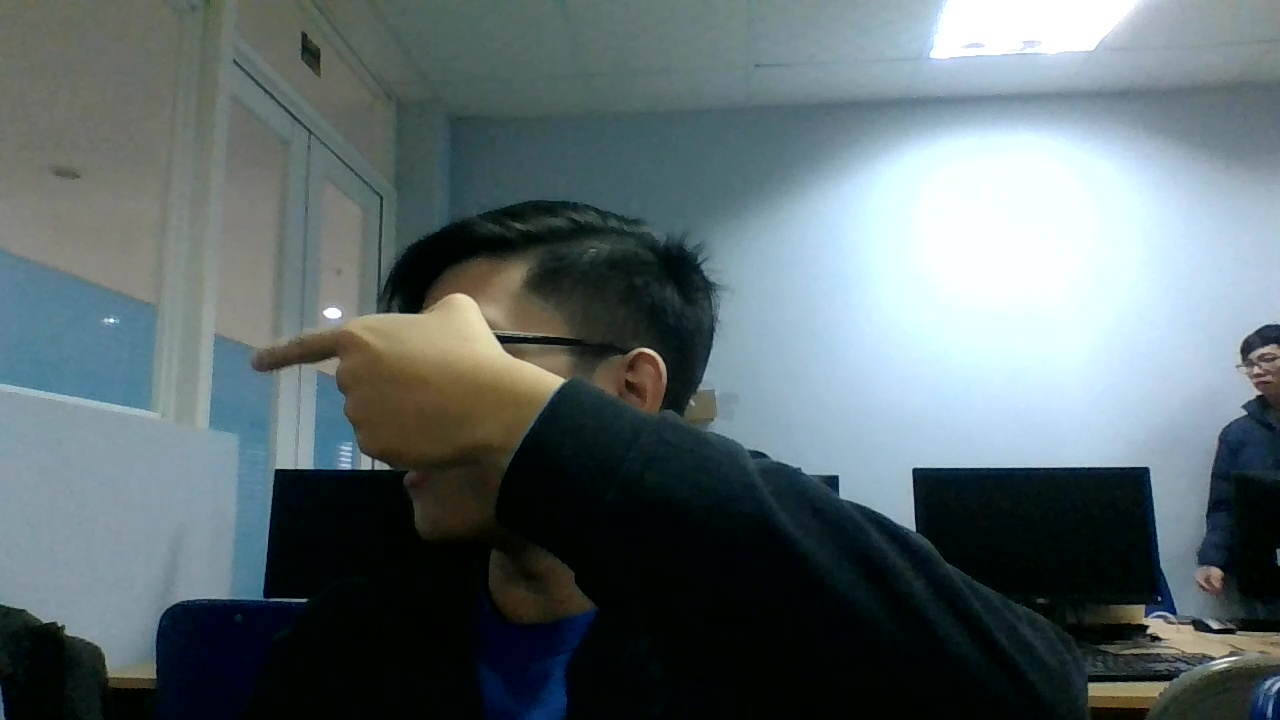right: (246, 294, 521, 503)
